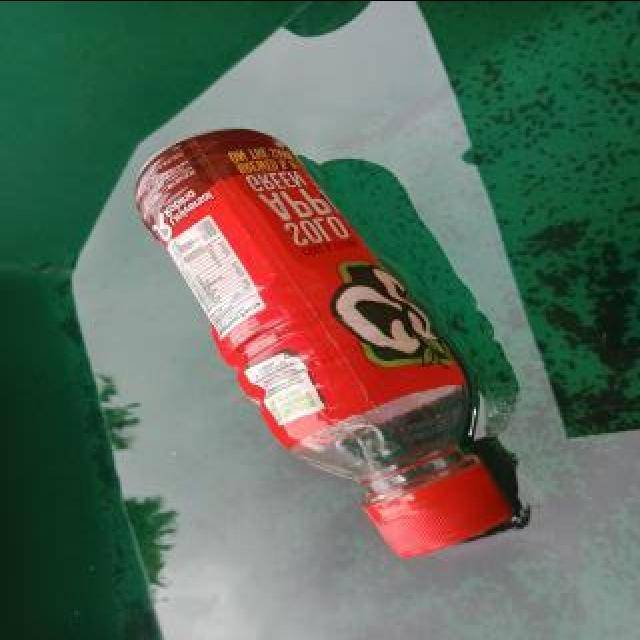Bottle: (124, 120, 528, 566)
